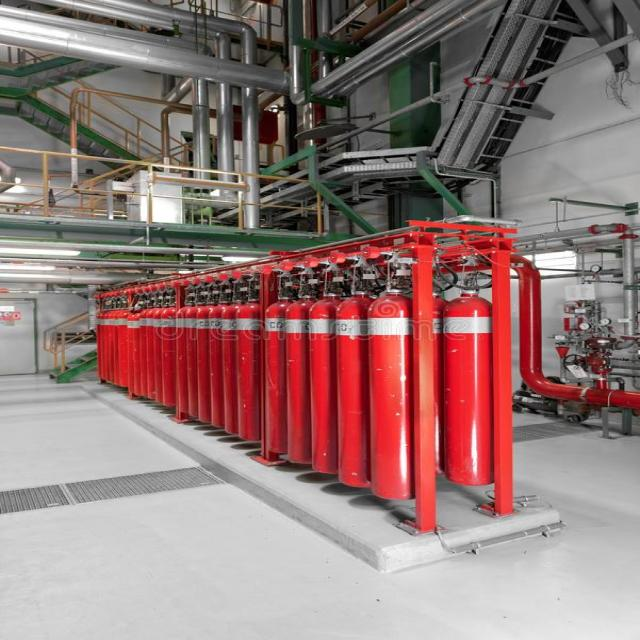fire_extinguisher: (358, 271, 443, 506), (431, 269, 508, 494), (331, 283, 389, 490), (278, 289, 330, 466), (304, 287, 351, 477), (259, 292, 298, 455), (232, 290, 274, 440)
